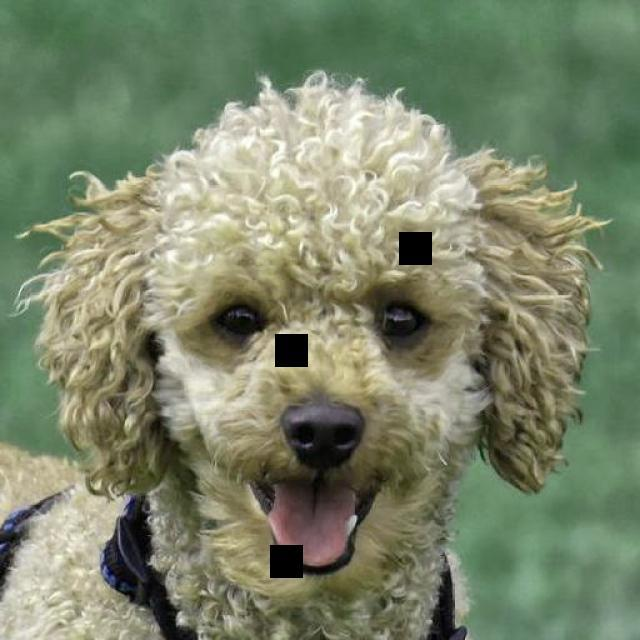adult_dog: (1, 61, 610, 640)
